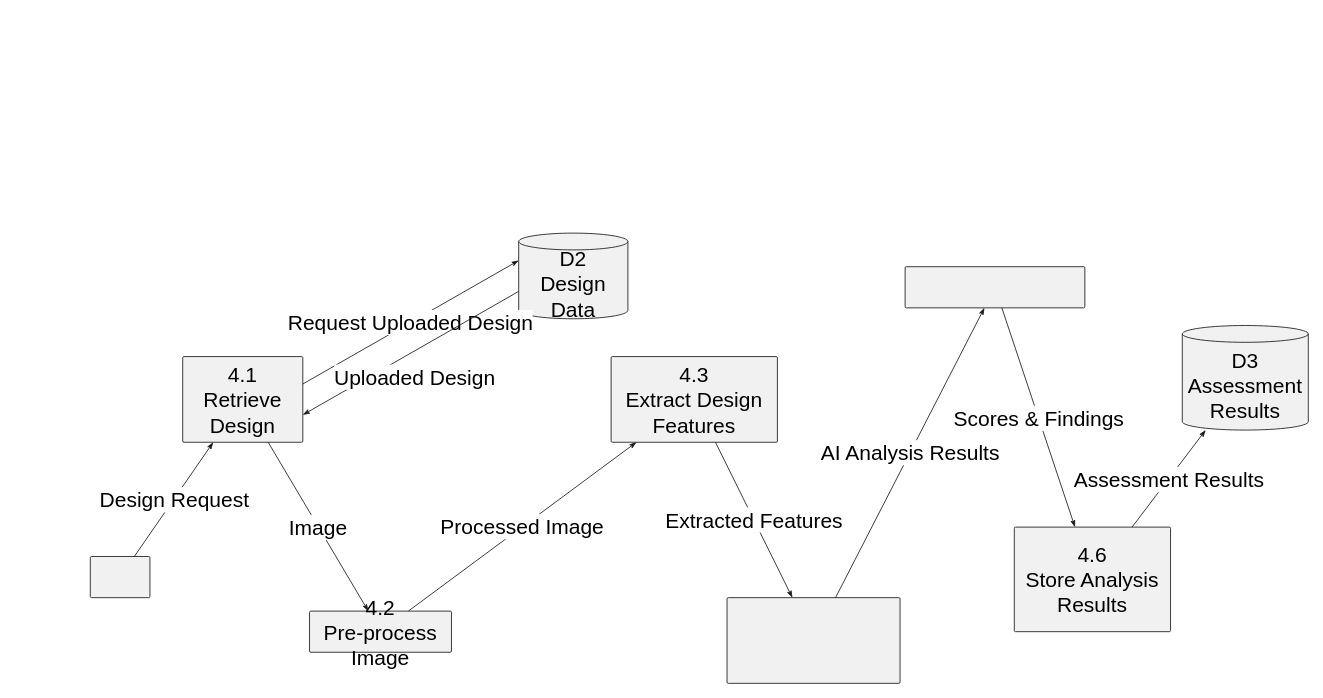
The diagram is 1323 pixels wide and 698 high, and some of its shapes have lost their labels. The box of each missing label's shape, as (x1, y1, x2, y2) in pixels:
4.4 AI-Based Design Analysis: (726, 597, 900, 683)
4.5 Evaluate Design Principles: (904, 266, 1085, 308)
USER: (89, 556, 150, 598)
